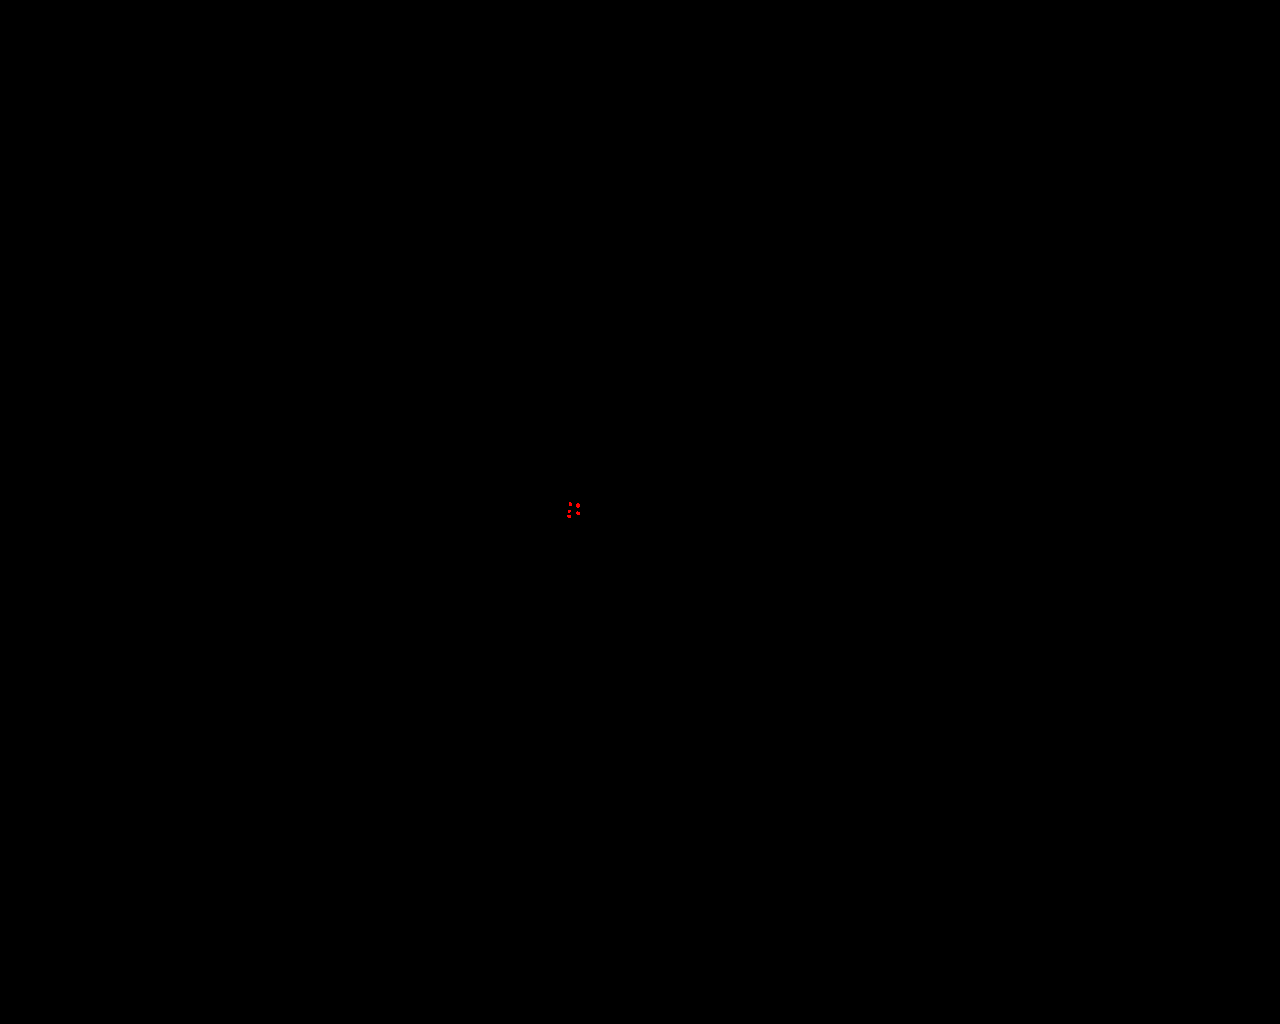Target: (576, 503, 580, 508), (576, 511, 580, 515), (569, 502, 572, 506), (567, 515, 571, 518), (568, 510, 571, 513)
